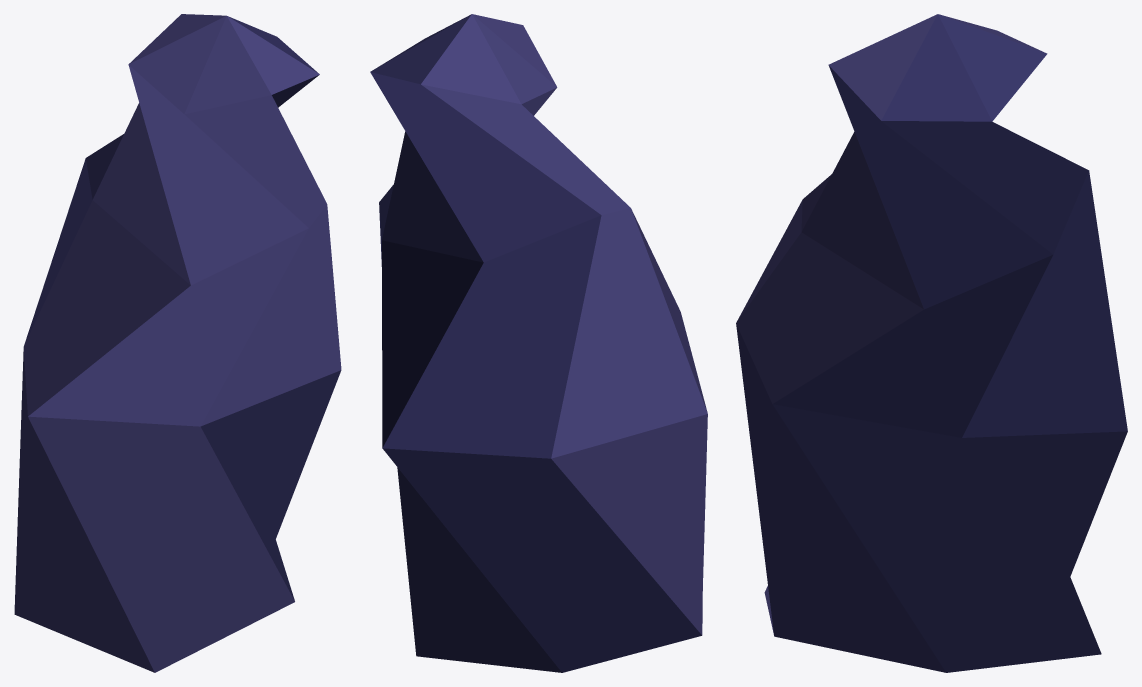
File: rock-3.glb
3 renders of one model, left to right at view 1: azimuth 30°, elevation 25°; view 2: azimuth 150°, elevation 25°; view 3: azimuth 270°, elevation 25°, orthographic. The views are drawn at different scales.
Parts seen in each view (by area): view 1: rock-3; view 2: rock-3; view 3: rock-3.
Boxes of the visible parts, x1=… form: rock-3: x1=14, y1=14, x2=341, y2=672; rock-3: x1=370, y1=14, x2=707, y2=672; rock-3: x1=736, y1=14, x2=1127, y2=672.
Size of the model in its own units: 1.65 by 2.88 by 1.54.
